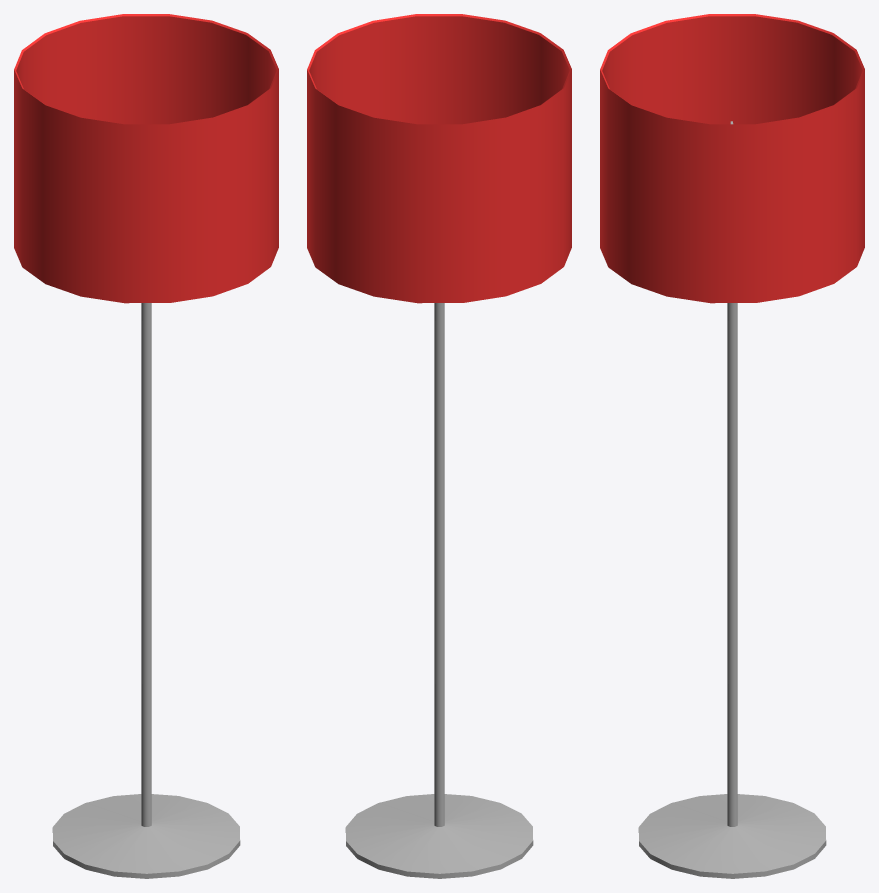
File: torchere_1.FBX
3 renders of one model, left to right at view 1: azimuth 30°, elevation 25°; view 2: azimuth 150°, elevation 25°; view 3: azimuth 270°, elevation 25°, orthographic.
Parts seen in each view (by area): view 1: torchere_1; view 2: torchere_1; view 3: torchere_1.
Part boxes in pixels (left/top/right/bottom): torchere_1: left=14, top=14, right=278, bottom=878; torchere_1: left=307, top=14, right=571, bottom=878; torchere_1: left=600, top=14, right=864, bottom=878.
Bounding box in the file's own units: 0.4395 × 1.43 × 0.4459.
